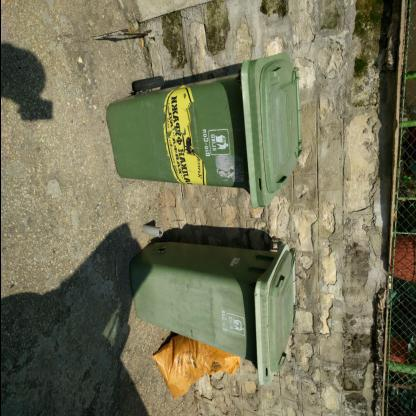diger: (152, 335, 241, 401)
